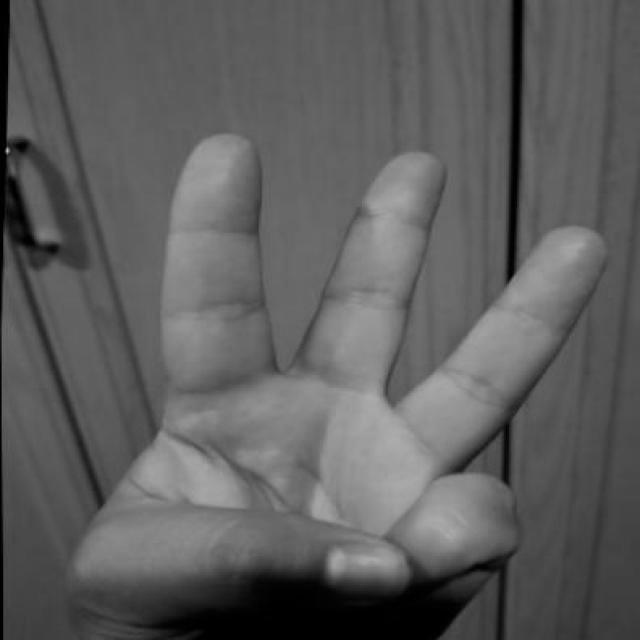W: (44, 117, 627, 639)
